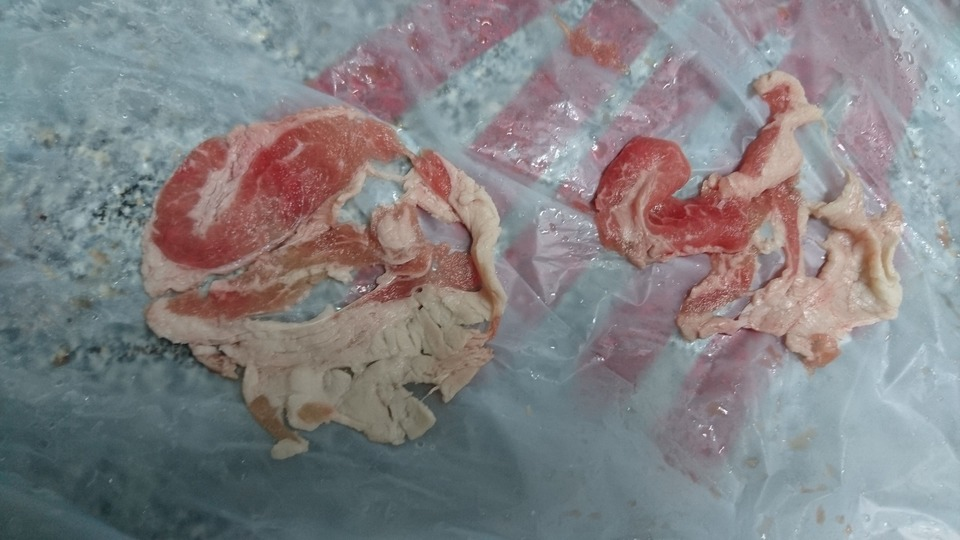restructured meat: (147, 106, 508, 458), (585, 72, 948, 357)
